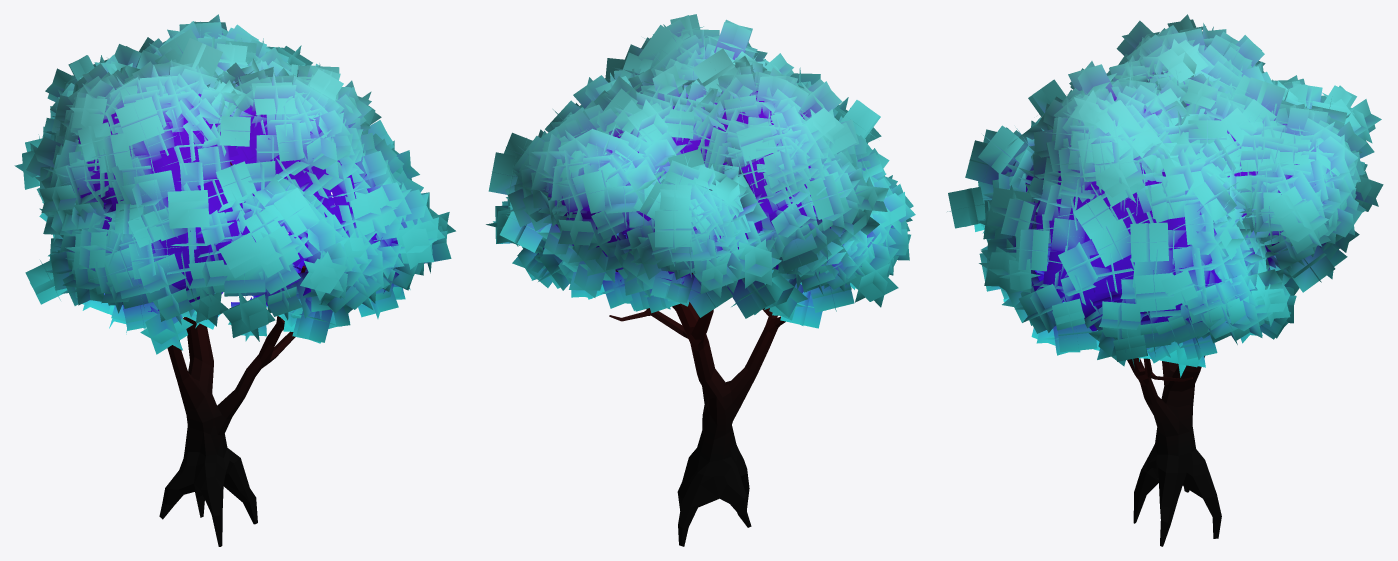
File: SM_Env_Tree_Fruit_02.FBX
The picture shows the model from 3 angles, left to right: view 1: azimuth 30°, elevation 25°; view 2: azimuth 150°, elevation 25°; view 3: azimuth 270°, elevation 25°; orthographic projection.
Visible parts, largest first — view 1: SM_Env_Tree_Fruit_02; view 2: SM_Env_Tree_Fruit_02; view 3: SM_Env_Tree_Fruit_02.
Boxes of the visible parts, <box> form: SM_Env_Tree_Fruit_02: <box>14,14,455,546</box>; SM_Env_Tree_Fruit_02: <box>486,14,915,546</box>; SM_Env_Tree_Fruit_02: <box>947,14,1383,546</box>.
Bounding box in the file's own units: 449 × 453 × 560.
